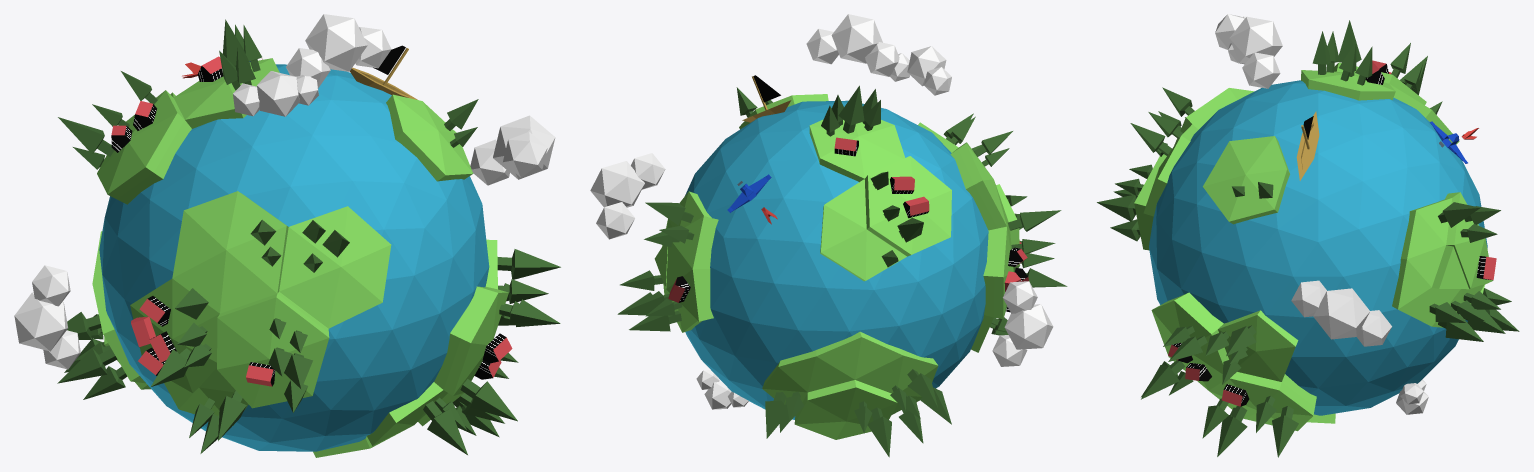
The model's file is planetEarth.glb.
3 views of the same model, side by side, from view 1: azimuth 30°, elevation 25°; view 2: azimuth 150°, elevation 25°; view 3: azimuth 270°, elevation 25° (orthographic). The views are drawn at different scales.
Visible parts, largest first — view 1: Plane.002; view 2: Plane.002; view 3: Plane.002.
Boxes of the visible parts, box(x1,y1,x2,y2) form: Plane.002: box(14, 14, 560, 457); Plane.002: box(590, 14, 1067, 457); Plane.002: box(1097, 14, 1519, 457).
Size of the model in its own units: 3.28 by 2.62 by 2.59.
Materials: 9 (9 with a texture image).
